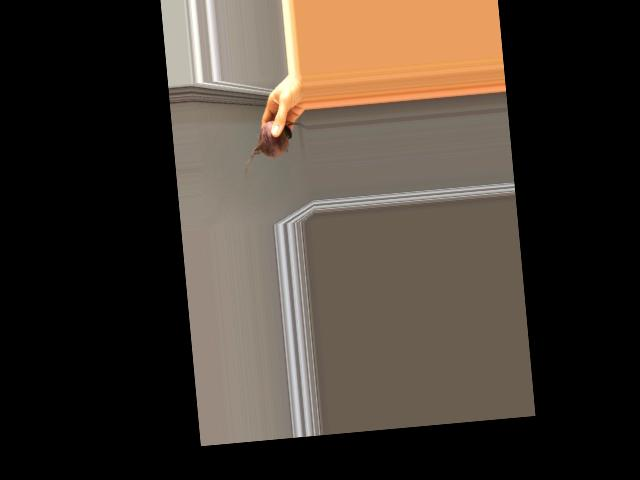beet: (240, 118, 311, 179)
